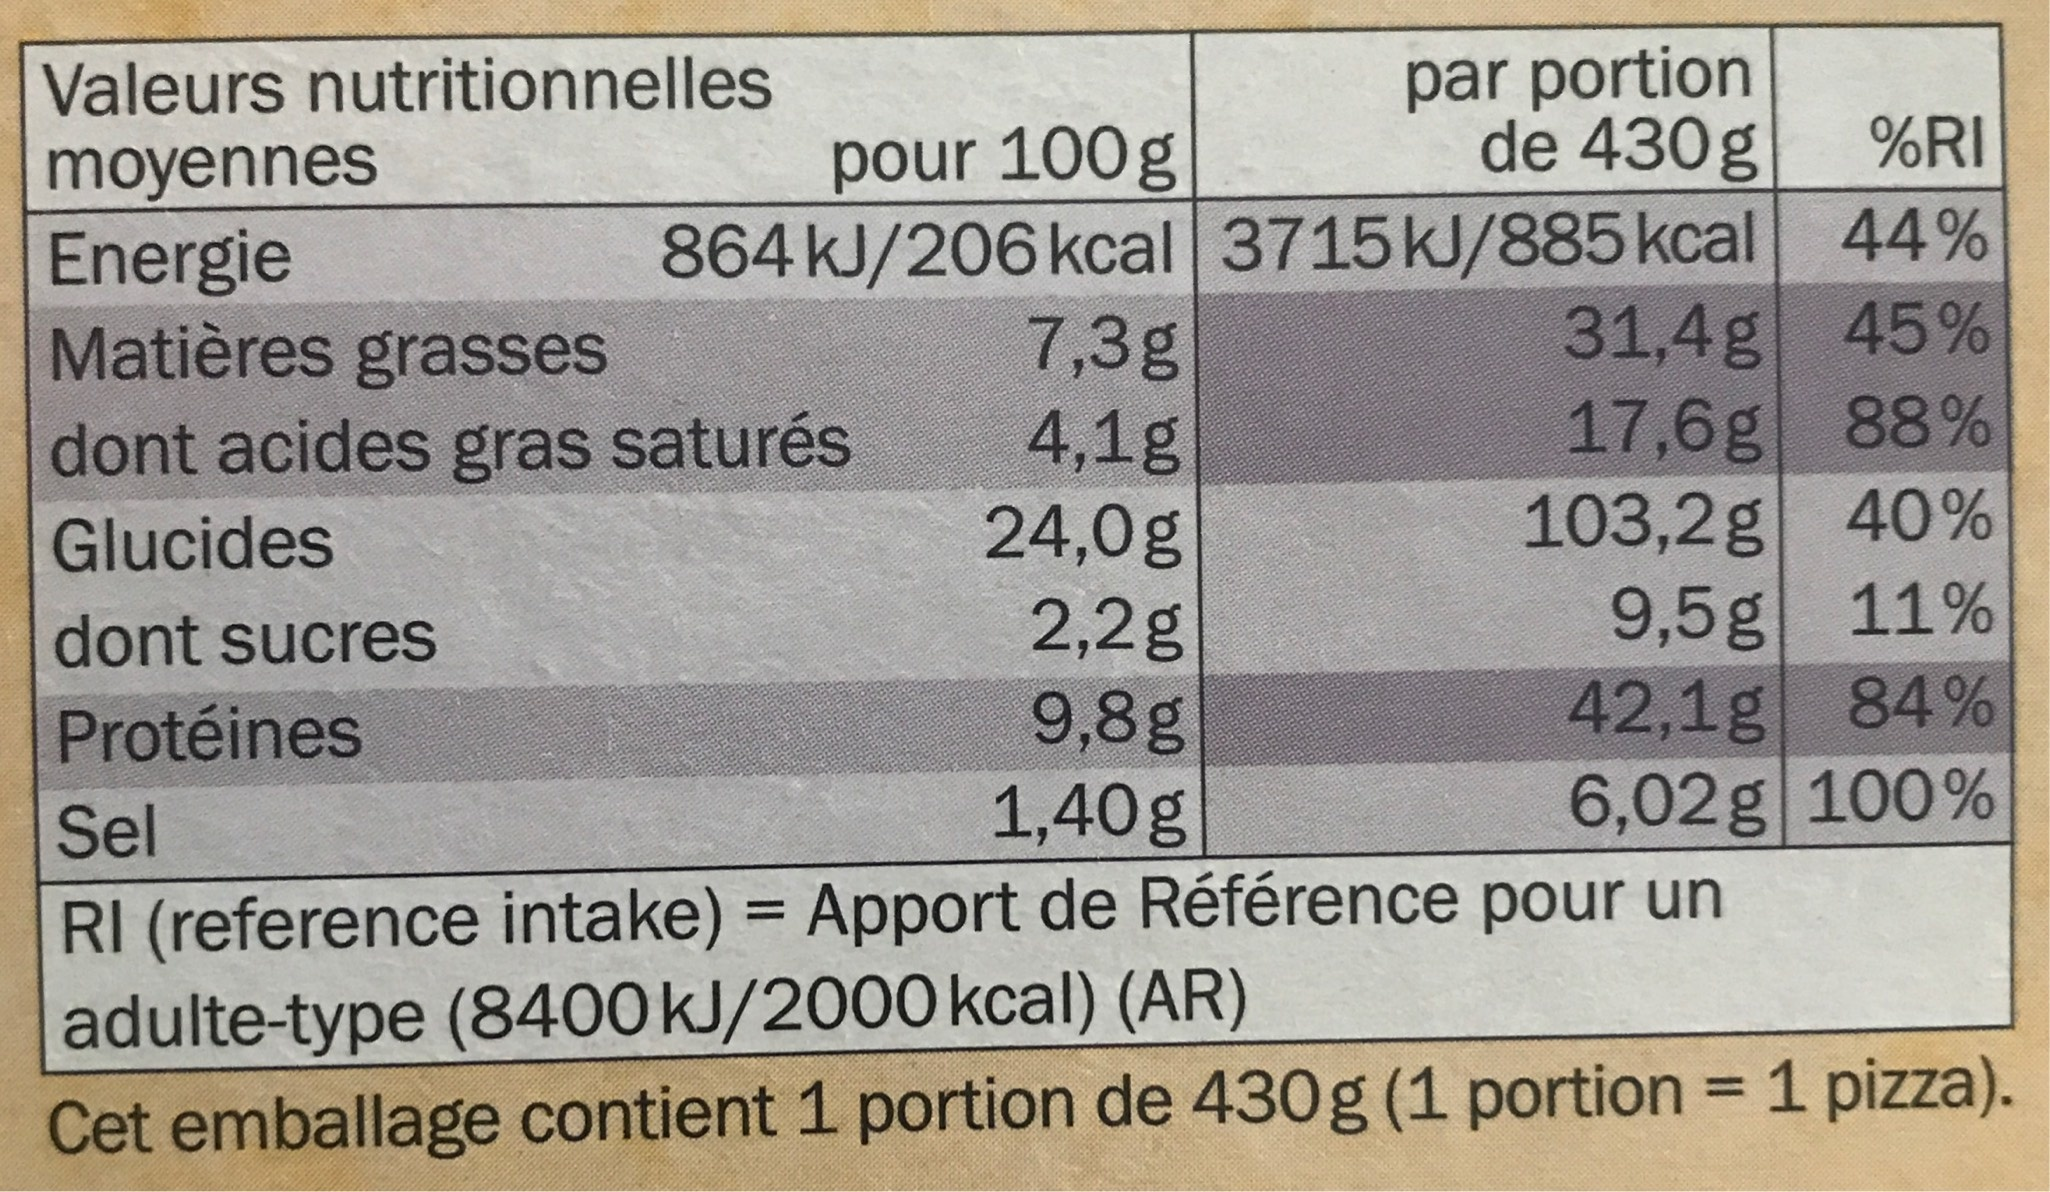column: (45, 53, 1180, 868), (1217, 41, 1771, 846), (1819, 82, 1995, 832)
table: (16, 33, 2030, 871)
